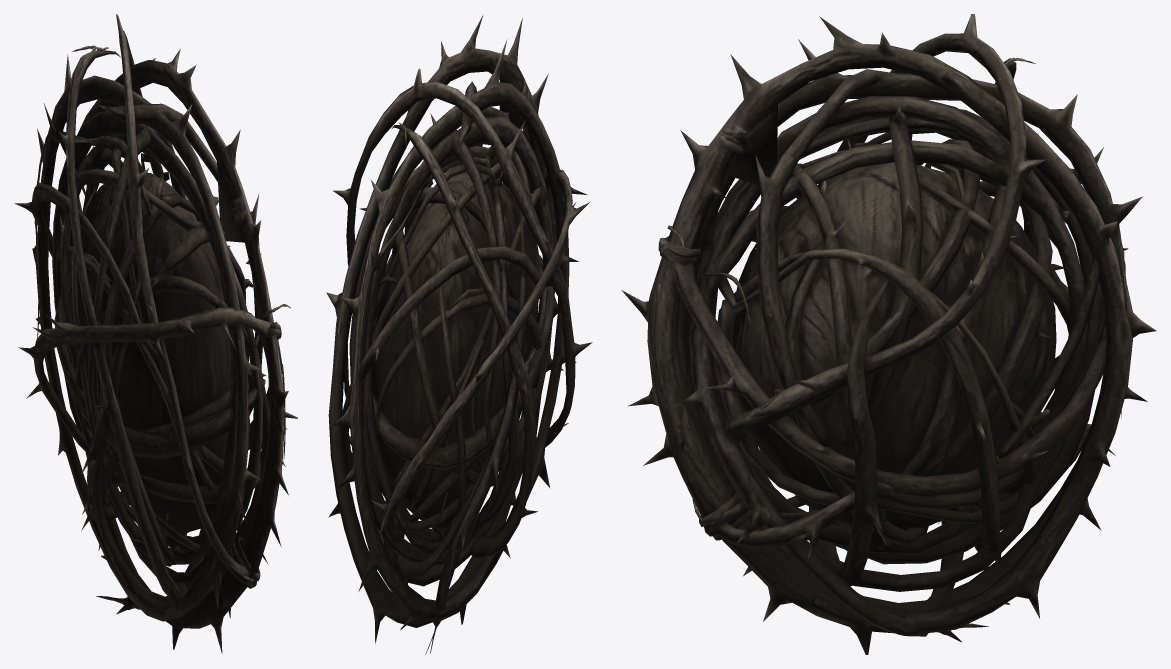
File: Torn_Shield.glb
The picture shows the model from 3 angles, left to right: view 1: azimuth 30°, elevation 25°; view 2: azimuth 150°, elevation 25°; view 3: azimuth 270°, elevation 25°; orthographic projection. The views are drawn at different scales.
Parts seen in each view (by area): view 1: Torn_Shield; view 2: Torn_Shield; view 3: Torn_Shield.
Part boxes in pixels (left/top/right/bottom): Torn_Shield: left=14, top=14, right=297, bottom=653; Torn_Shield: left=326, top=15, right=592, bottom=654; Torn_Shield: left=621, top=14, right=1156, bottom=654.
Bounding box in the file's own units: 0.3 × 1.25 × 0.95.
Materials: 1 (1 with a texture image).
